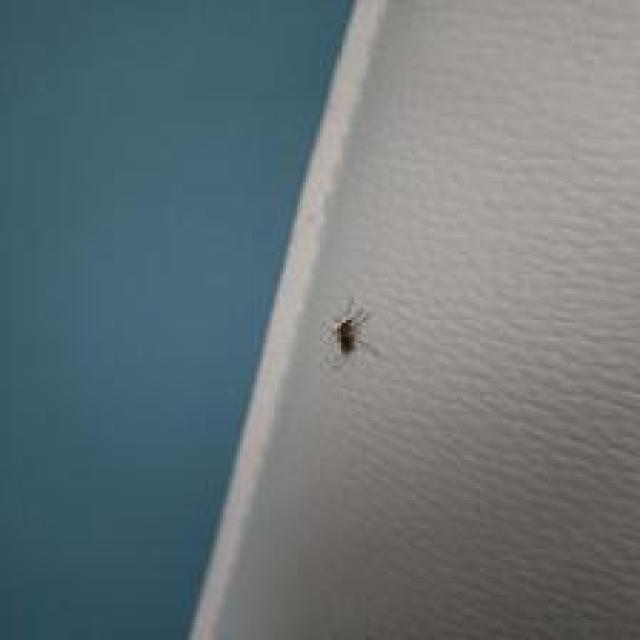Culex: (327, 296, 373, 361)
